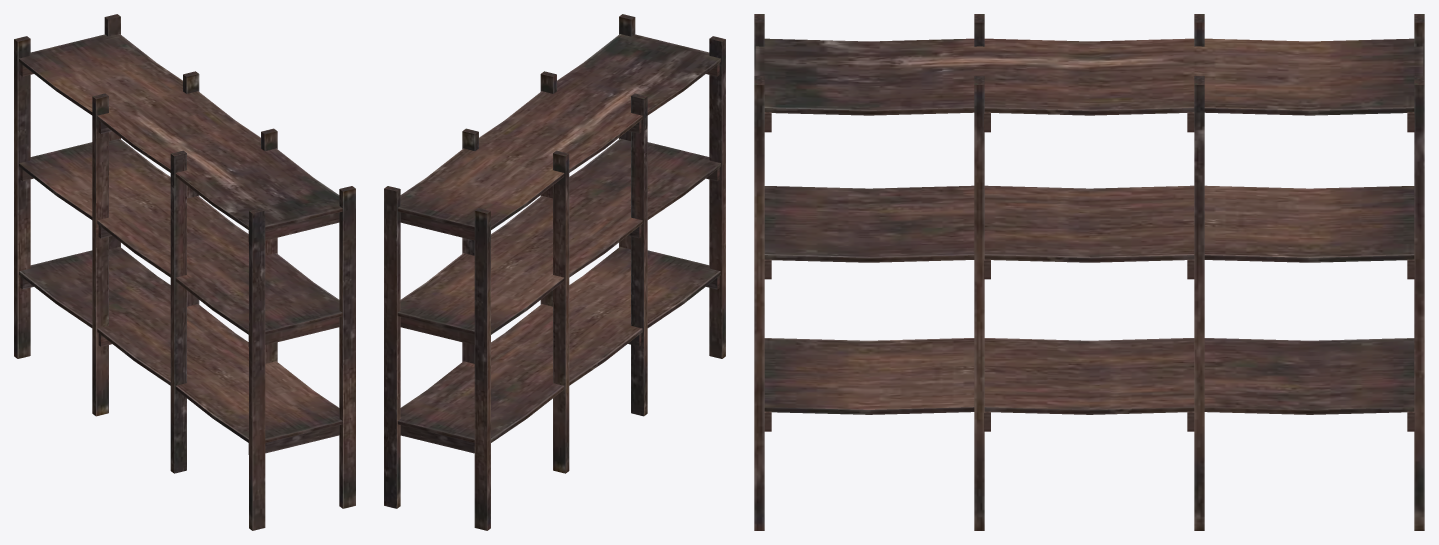
File: shelves_wood.glb
3 views of the same model, side by side, from view 1: azimuth 30°, elevation 25°; view 2: azimuth 150°, elevation 25°; view 3: azimuth 270°, elevation 25° (orthographic). The views are drawn at different scales.
Parts seen in each view (by area): view 1: 0_shelves_wood; view 2: 0_shelves_wood; view 3: 0_shelves_wood.
Boxes of the visible parts, x1=… form: 0_shelves_wood: x1=14, y1=14, x2=355, y2=530; 0_shelves_wood: x1=384, y1=14, x2=725, y2=530; 0_shelves_wood: x1=754, y1=14, x2=1424, y2=530.
Bounding box in the file's own units: 0.8136 × 2.39 × 3.25.
1 material, 1 textured.
